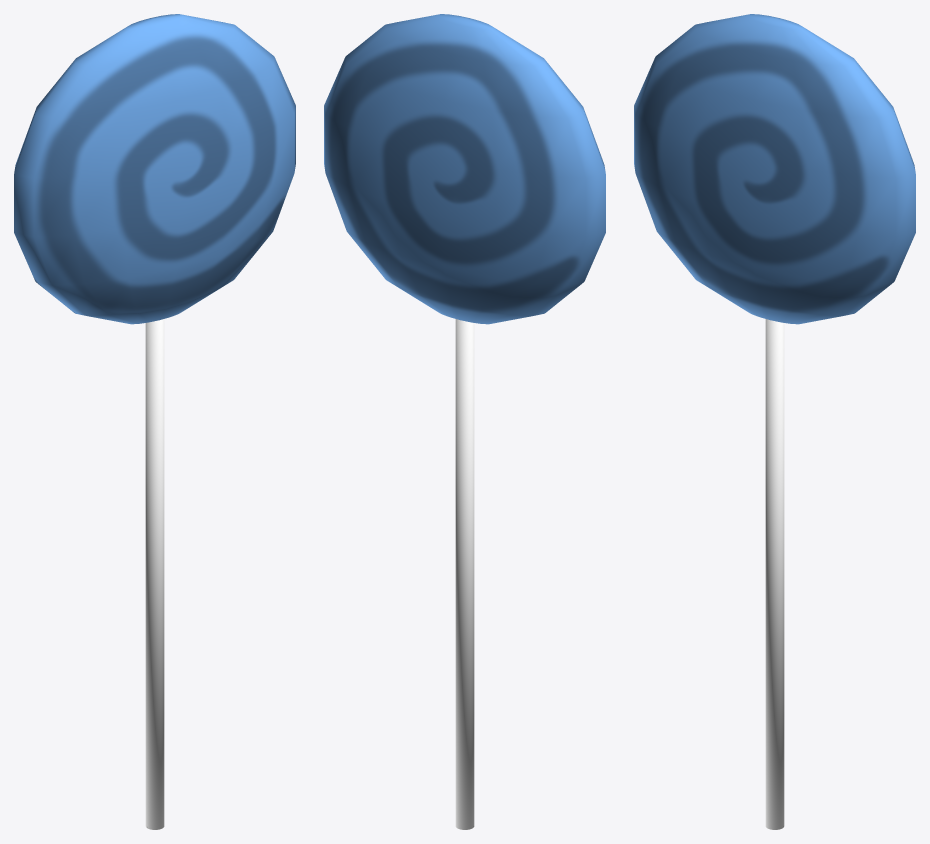
Rendered from Candy_3.fbx.
3 renders of one model, left to right at view 1: azimuth 30°, elevation 25°; view 2: azimuth 150°, elevation 25°; view 3: azimuth 330°, elevation 25°, orthographic.
Parts seen in each view (by area): view 1: Candy 3; view 2: Candy 3; view 3: Candy 3.
Boxes of the visible parts, x1,y1,x2,y2 form: Candy 3: [14, 14, 295, 829]; Candy 3: [324, 14, 605, 829]; Candy 3: [634, 14, 915, 829].
Bounding box in the file's own units: 4.83 × 13.21 × 1.44.
Materials: 1 (1 with a texture image).
